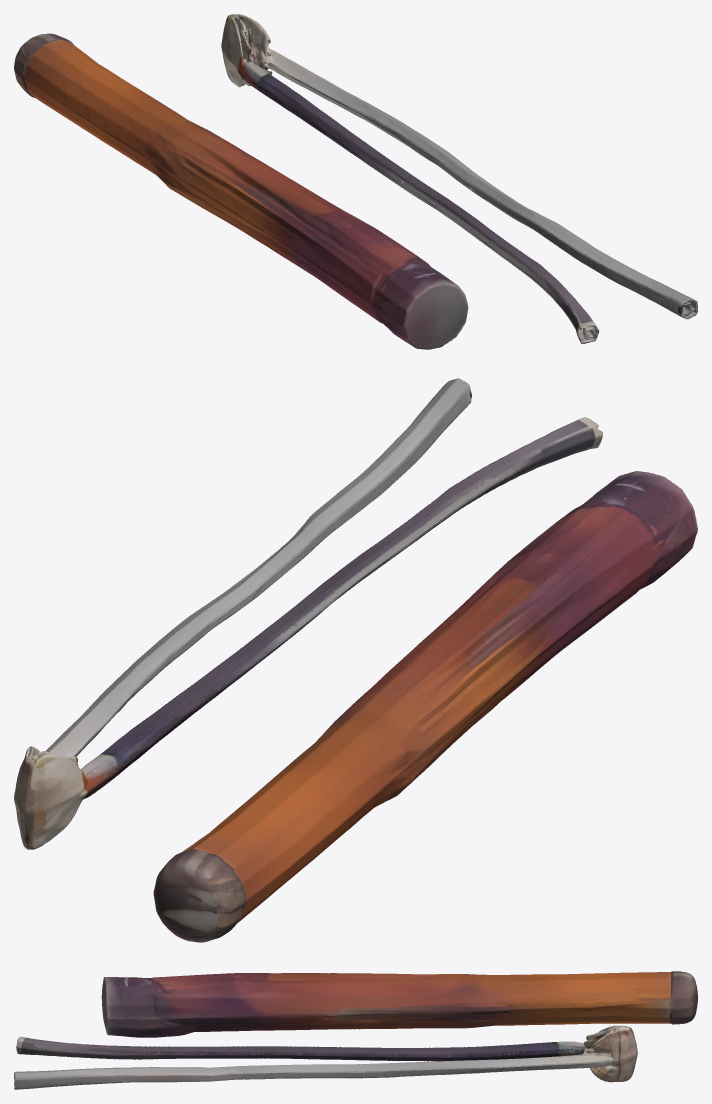
The model's file is yugu.glb.
3 renders of one model, top to bottom at view 1: azimuth 30°, elevation 25°; view 2: azimuth 150°, elevation 25°; view 3: azimuth 270°, elevation 25°, orthographic. The views are drawn at different scales.
Parts seen in each view (by area): view 1: tripo_node_87481cc9-ca67-4e0d-a6e7-a83eabccb096; view 2: tripo_node_87481cc9-ca67-4e0d-a6e7-a83eabccb096; view 3: tripo_node_87481cc9-ca67-4e0d-a6e7-a83eabccb096.
Boxes of the visible parts, <box> form: tripo_node_87481cc9-ca67-4e0d-a6e7-a83eabccb096: <box>14,14,697,349</box>; tripo_node_87481cc9-ca67-4e0d-a6e7-a83eabccb096: <box>14,378,697,942</box>; tripo_node_87481cc9-ca67-4e0d-a6e7-a83eabccb096: <box>14,971,697,1089</box>.
Bounding box in the file's own units: 39.22 × 9.99 × 110.
1 material, 1 textured.
